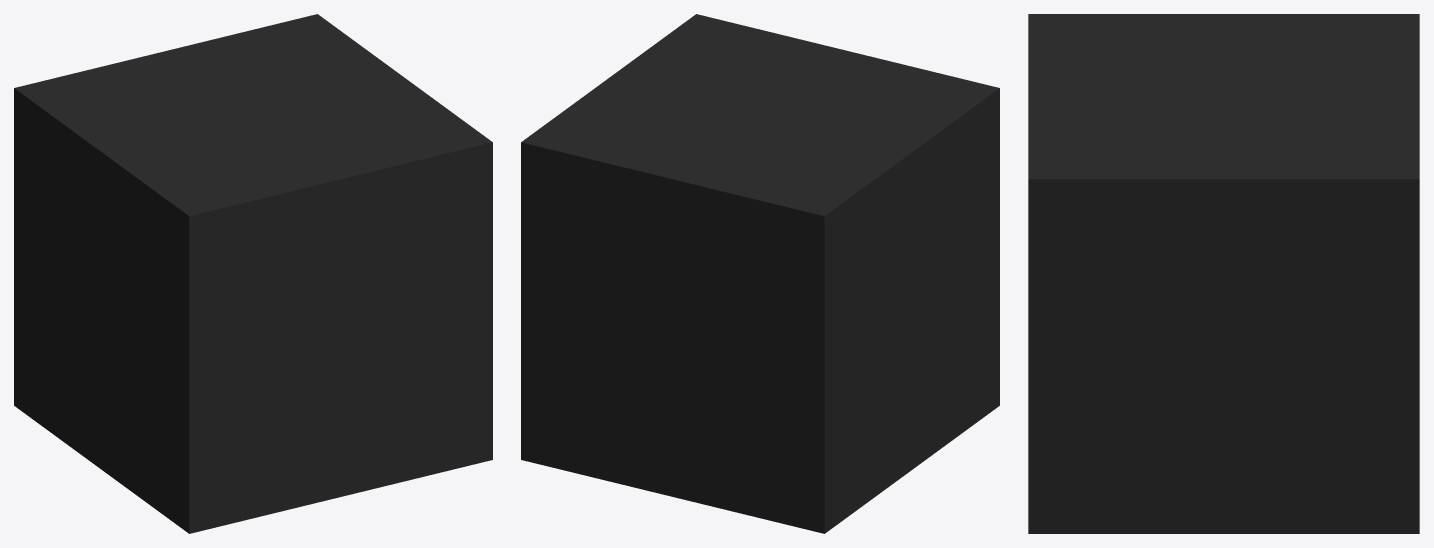
3 views of the same model, side by side, from view 1: azimuth 30°, elevation 25°; view 2: azimuth 150°, elevation 25°; view 3: azimuth 270°, elevation 25° (orthographic). The views are drawn at different scales.
Visible parts, largest first — view 1: pCube1; view 2: pCube1; view 3: pCube1.
Boxes of the visible parts, x1,y1,x2,y2 form: pCube1: (14, 14, 492, 533); pCube1: (521, 14, 999, 533); pCube1: (1028, 14, 1419, 533).
Bounding box in the file's own units: 1 × 1 × 1.
Materials: 1 (1 with a texture image).
